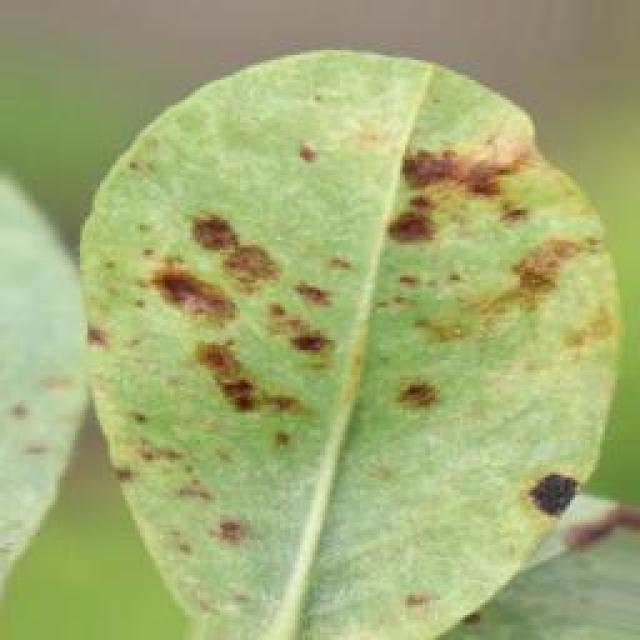Whitefly: (106, 93, 594, 628)
